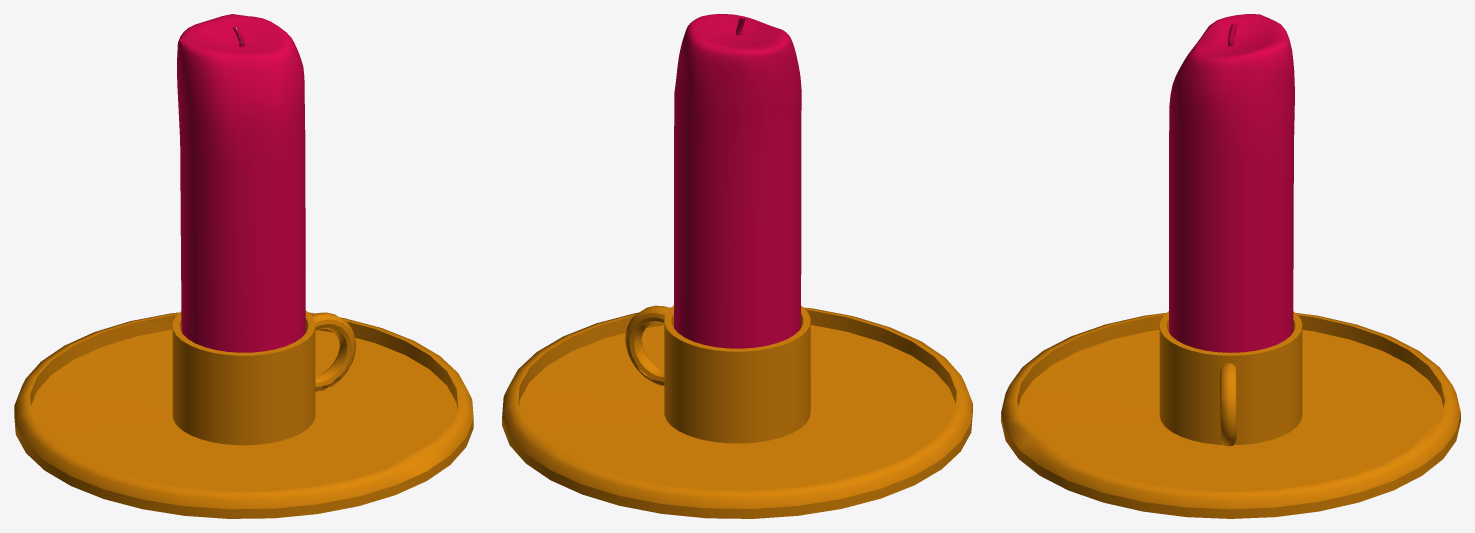
Rendered from CANDLENASUB.fbx.
The picture shows the model from 3 angles, left to right: view 1: azimuth 30°, elevation 25°; view 2: azimuth 150°, elevation 25°; view 3: azimuth 270°, elevation 25°; orthographic projection. The views are drawn at different scales.
Visible parts, largest first — view 1: Candle; view 2: Candle; view 3: Candle.
Boxes of the visible parts, left/top/right/bottom form: Candle: left=14, top=14, right=473, bottom=518; Candle: left=502, top=14, right=972, bottom=518; Candle: left=1001, top=14, right=1460, bottom=518.
Size of the model in its own units: 22.12 by 20.97 by 22.12.
